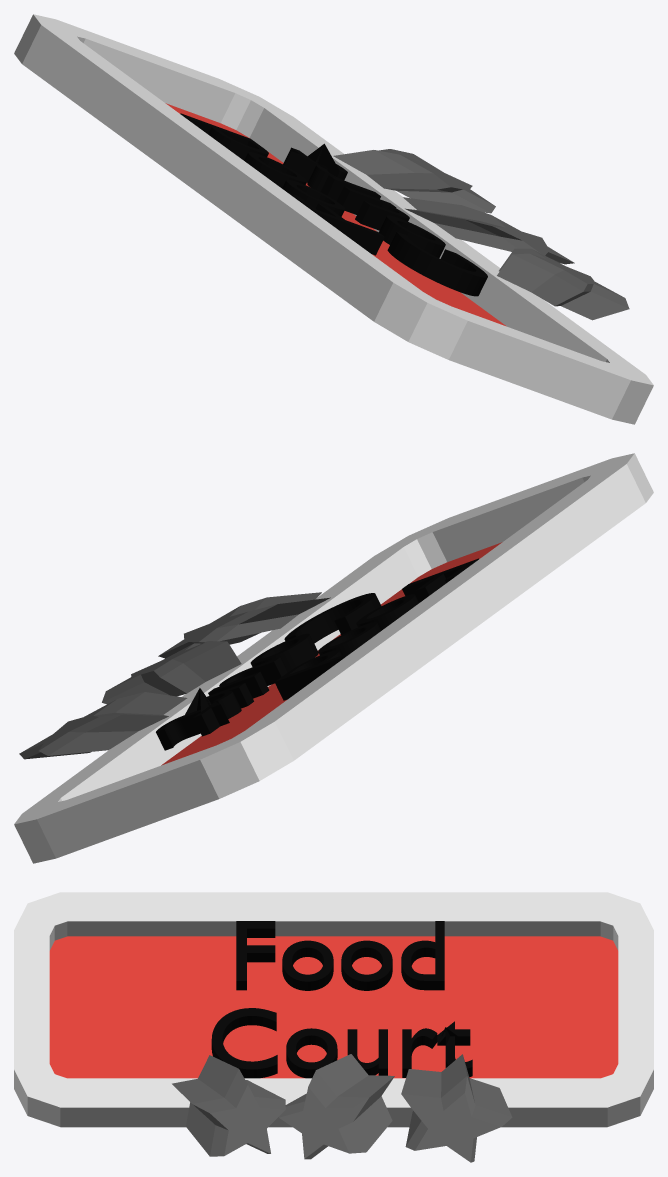
Rendered from FoudCourtPlate.fbx.
3 renders of one model, top to bottom at view 1: azimuth 30°, elevation 25°; view 2: azimuth 150°, elevation 25°; view 3: azimuth 270°, elevation 25°, orthographic. The views are drawn at different scales.
Parts seen in each view (by area): view 1: FoodCourt, Text, Star, Star.002, Star.001; view 2: FoodCourt, Text, Star.002, Star.001, Star; view 3: FoodCourt, Text, Star.001, Star.002, Star.
Part boxes in pixels (x1,y1,x2,y2): FoodCourt: [14, 14, 653, 424]; Text: [180, 113, 487, 296]; Star: [497, 248, 629, 320]; Star.002: [333, 149, 495, 213]; Star.001: [403, 197, 574, 264]; FoodCourt: [14, 453, 653, 863]; Text: [156, 558, 478, 750]; Star.002: [19, 692, 187, 759]; Star.001: [102, 641, 241, 704]; Star: [158, 592, 330, 658]; FoodCourt: [14, 892, 653, 1127]; Text: [211, 921, 472, 1078]; Star.001: [279, 1054, 394, 1159]; Star.002: [401, 1054, 512, 1162]; Star: [172, 1055, 285, 1156].
Size of the model in its own units: 174 by 342 by 86.24.
